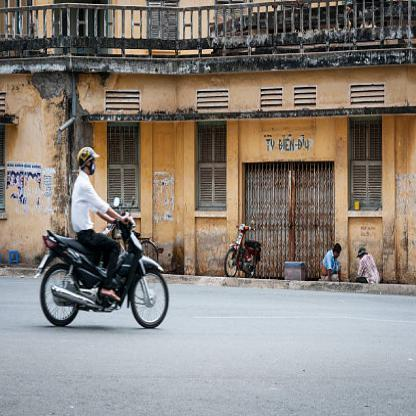Motorcycle: (34, 200, 175, 335)
